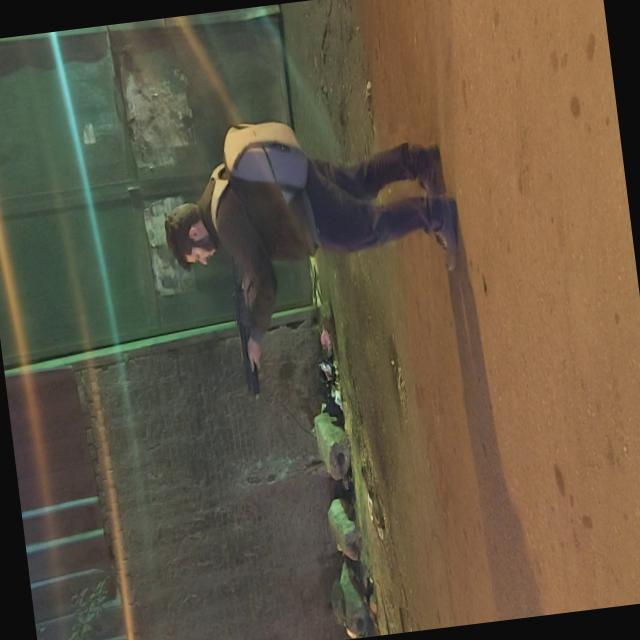long weapon: (214, 249, 280, 408)
